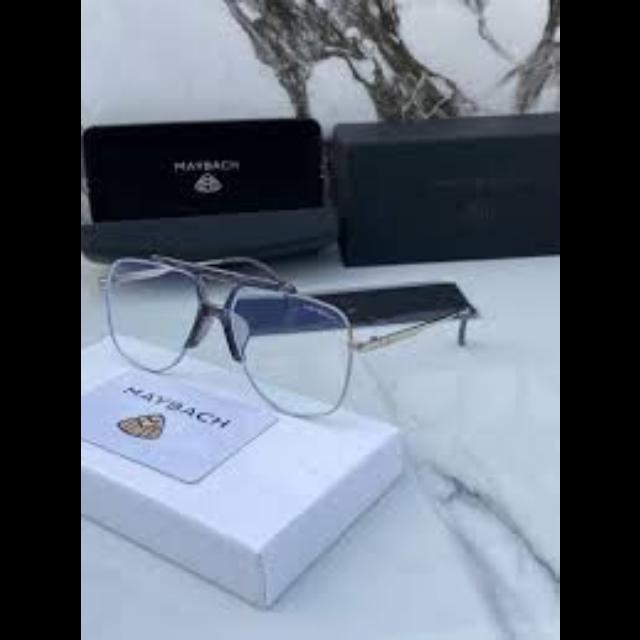glasses: (98, 255, 470, 417)
